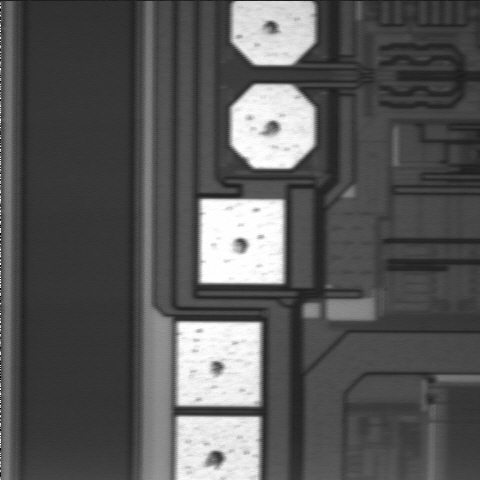pad: (200, 199, 284, 284), (177, 322, 261, 406), (231, 84, 314, 169)
